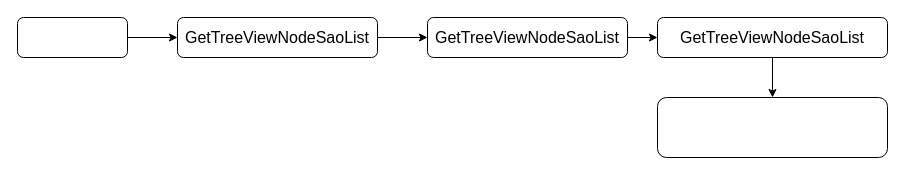
This 905x175 diagram has some shape labels left out. The centre of each missing label's shape, as x and y in pixels:
GetRootNode: (x=72, y=37)
LocalTreeViewCacheHelper. GetTreeViewNodeSaoList: (x=772, y=127)
